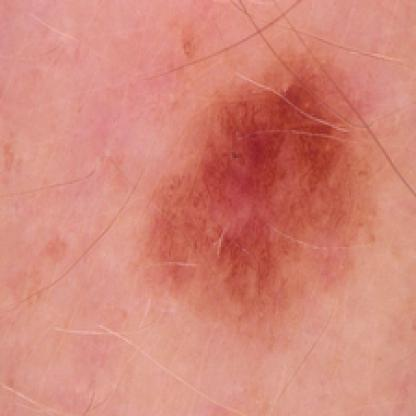benign: (161, 87, 353, 308)
